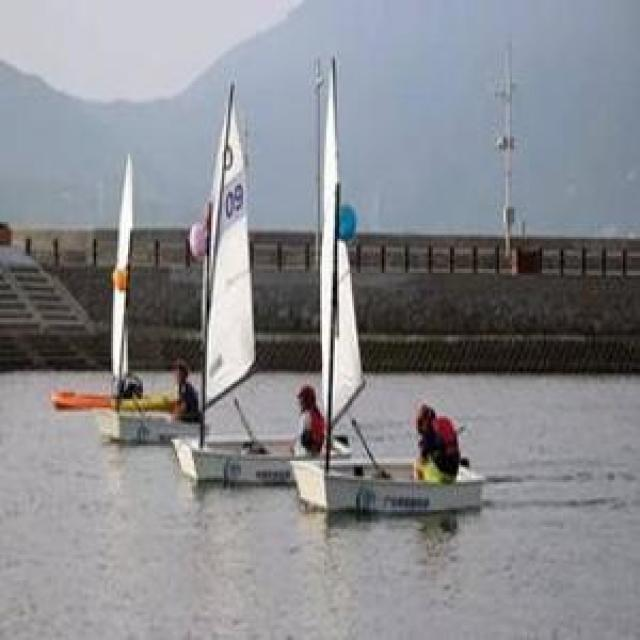sailboat: (283, 52, 495, 528), (176, 90, 340, 496), (53, 143, 188, 440)
